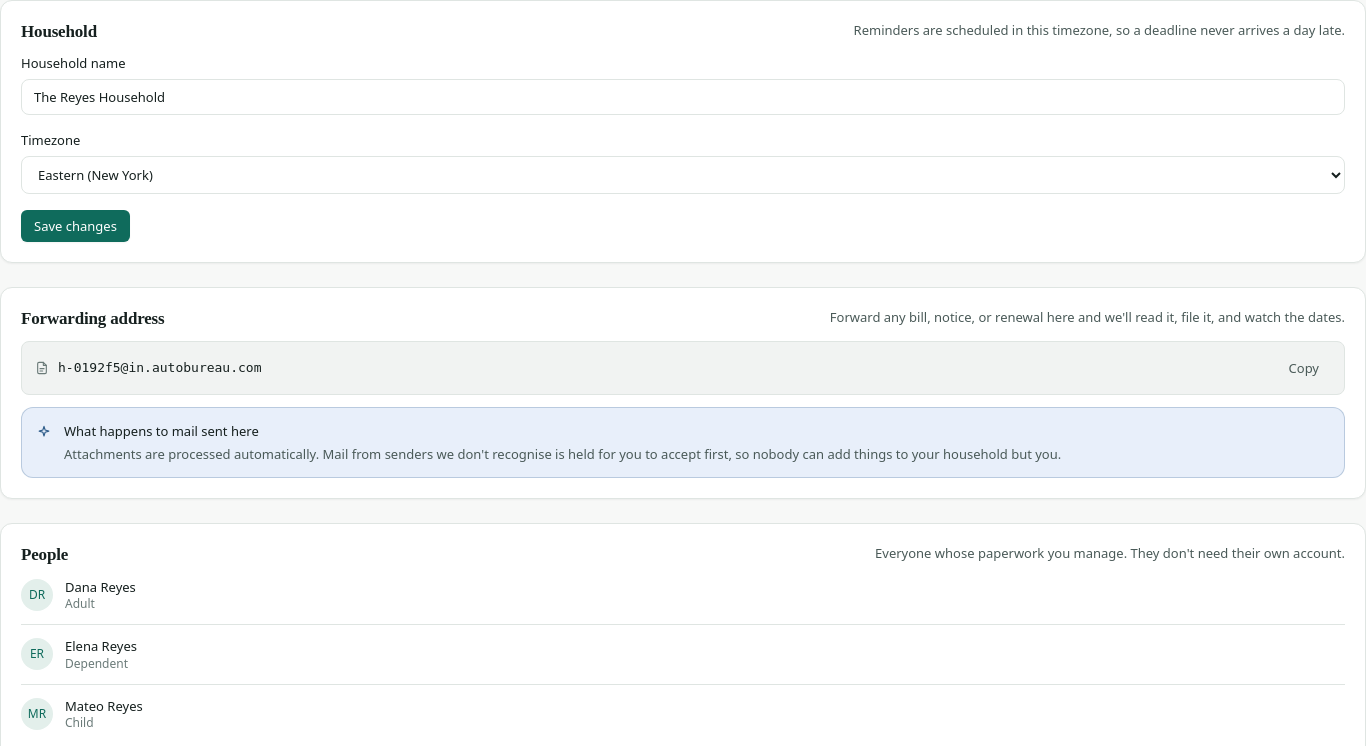
Scenario: unrelated household settings remain intact › still renders the forwarding-address card and its working copy button
Expected: the heading "Forwarding address" is shown, [21,308,164,329]
Step 1. Click the button "Copy" → click(1304, 368), box [1276,352,1332,384]
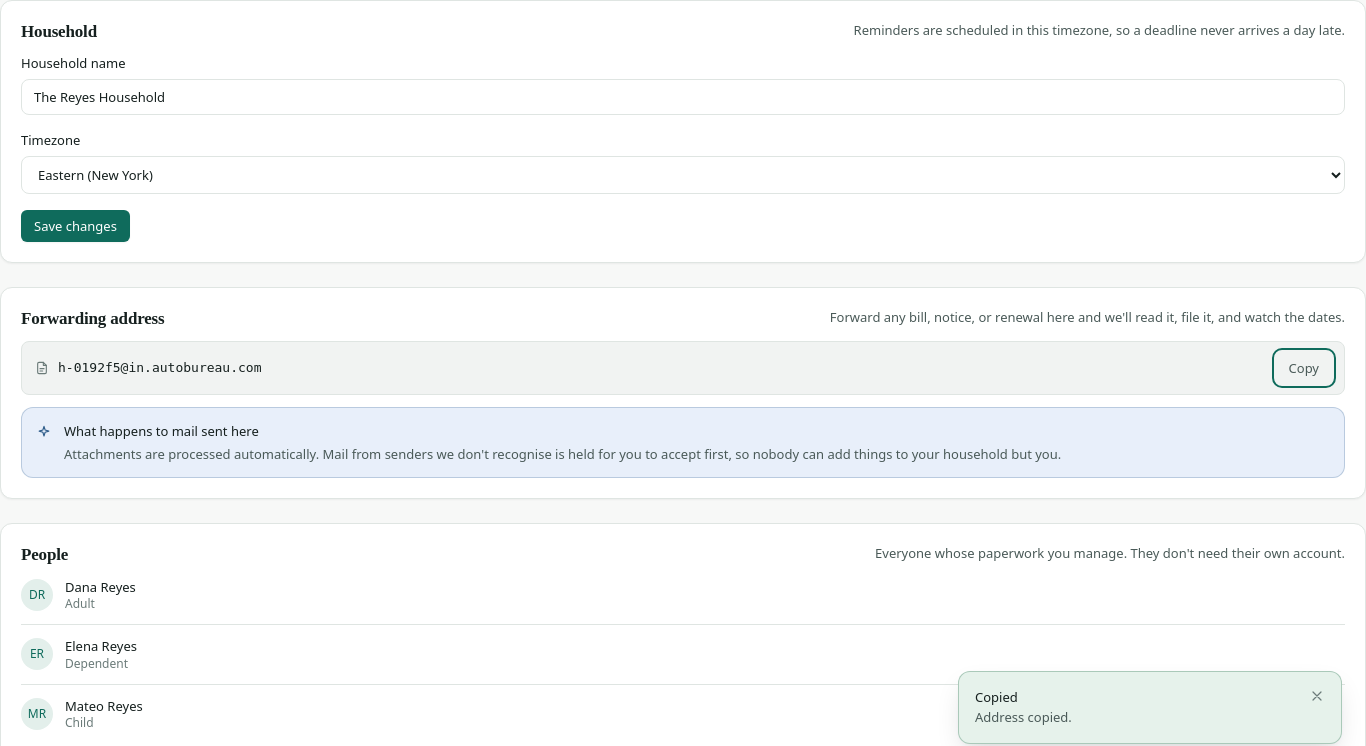
Expected: the text "Copied" is shown, [975,688,1018,706]
